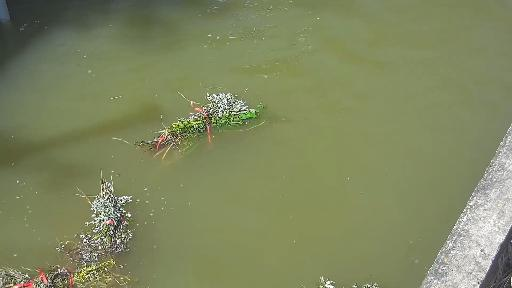twig: (121, 87, 277, 161), (63, 174, 145, 262), (7, 254, 140, 288), (304, 274, 393, 288)
